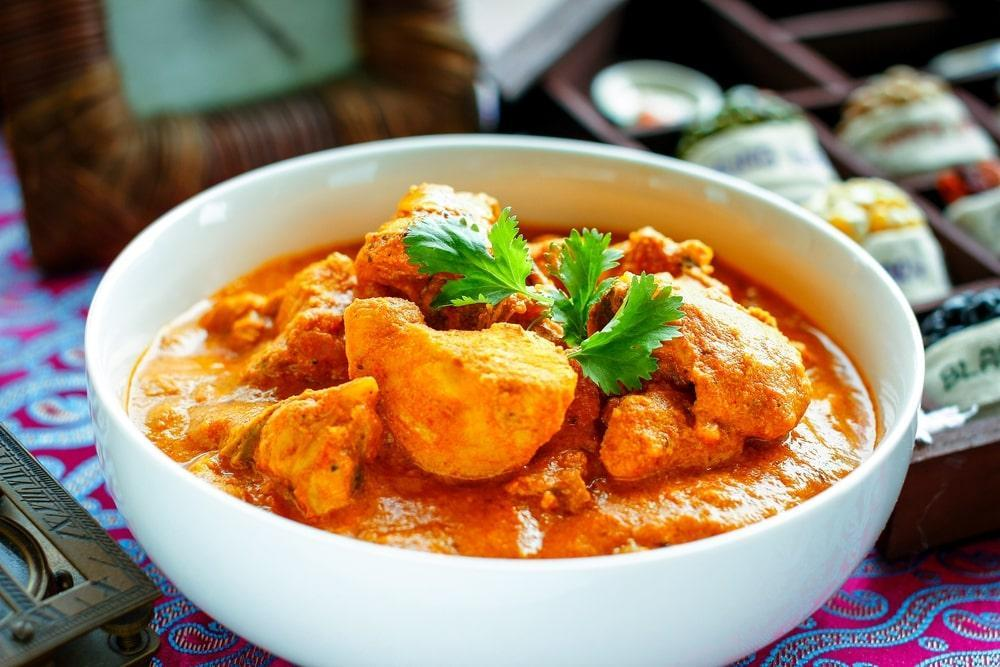chicken: (136, 179, 908, 554)
